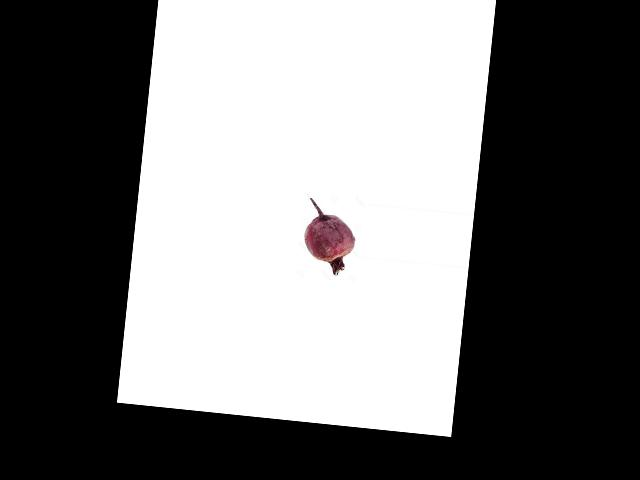beet: (300, 198, 358, 276)
